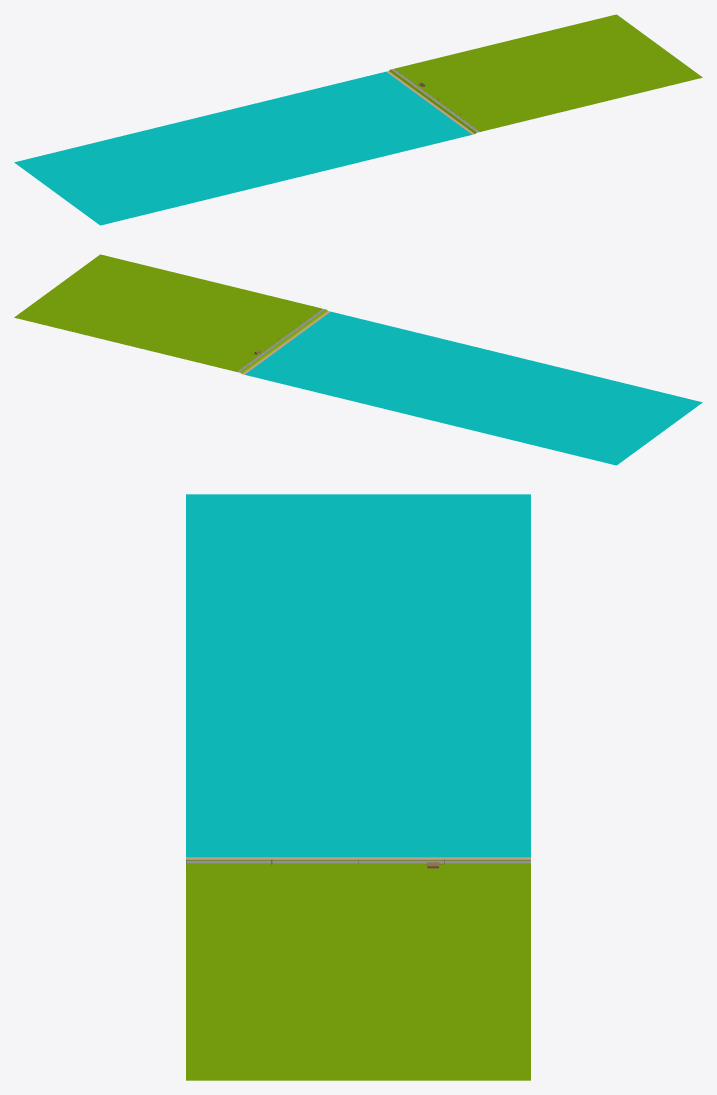
The model's file is searoad03.glb.
3 renders of one model, top to bottom at view 1: azimuth 30°, elevation 25°; view 2: azimuth 150°, elevation 25°; view 3: azimuth 270°, elevation 25°, orthographic. The views are drawn at different scales.
Parts seen in each view (by area): view 1: Geom3D (×2); view 2: Geom3D (×2); view 3: Geom3D (×4).
Part boxes in pixels (x1,y1,x2,y2): Geom3D (×2): (14, 14, 702, 225); Geom3D (×2): (14, 254, 702, 465); Geom3D (×4): (186, 494, 530, 1080).
Bounding box in the file's own units: 1.65e+07 × 91146 × 4085865.
Materials: 12 (4 with a texture image).
